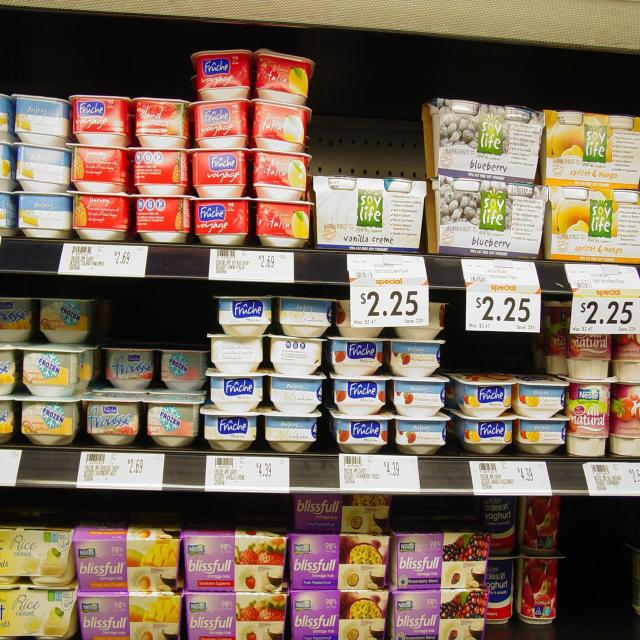empty_space: (322, 48, 418, 164), (573, 524, 631, 634)
